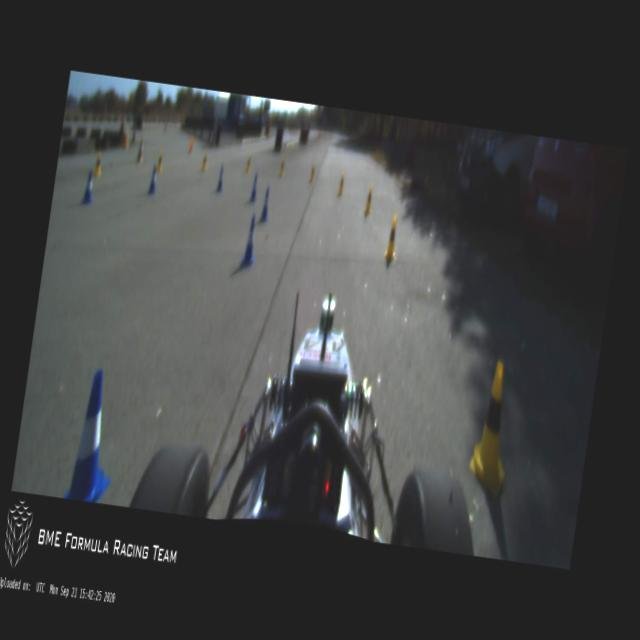blue_cone: (63, 366, 127, 504), (239, 215, 260, 270), (258, 187, 273, 224), (82, 169, 96, 204), (146, 164, 160, 196), (248, 172, 260, 204), (216, 167, 226, 194)
yellow_cone: (465, 358, 520, 498), (384, 213, 402, 260), (364, 183, 374, 216), (92, 152, 104, 177), (337, 169, 346, 194), (200, 150, 208, 172), (308, 162, 316, 184), (278, 156, 286, 177), (156, 150, 163, 172), (245, 154, 252, 173)
